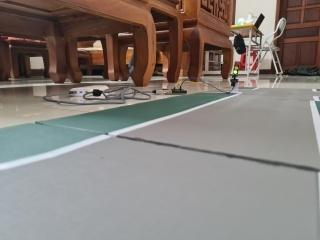green: (225, 54, 242, 81)
